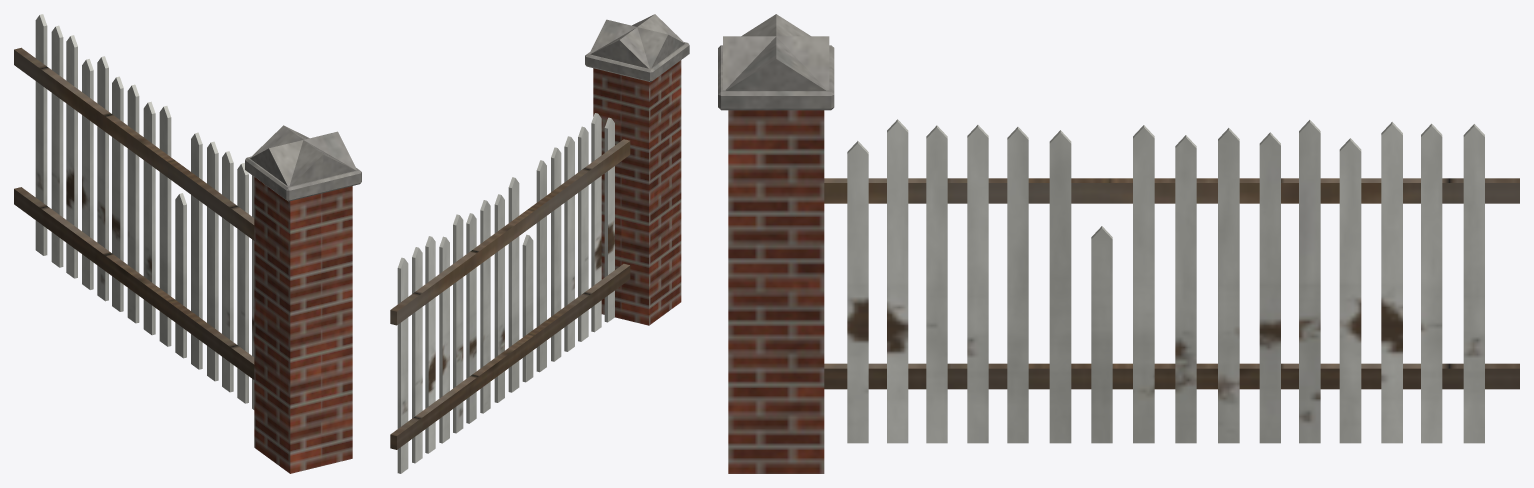
File: v_picket.glb
3 renders of one model, left to right at view 1: azimuth 30°, elevation 25°; view 2: azimuth 150°, elevation 25°; view 3: azimuth 270°, elevation 25°, orthographic. The views are drawn at different scales.
Parts seen in each view (by area): view 1: v_picket; view 2: v_picket; view 3: v_picket.
Part boxes in pixels (bbox=[...]): v_picket: bbox=[14, 14, 361, 473]; v_picket: bbox=[390, 14, 689, 473]; v_picket: bbox=[718, 14, 1519, 473].
Size of the model in its own units: 0.46 by 1.82 by 3.17.
Materials: 1 (1 with a texture image).
